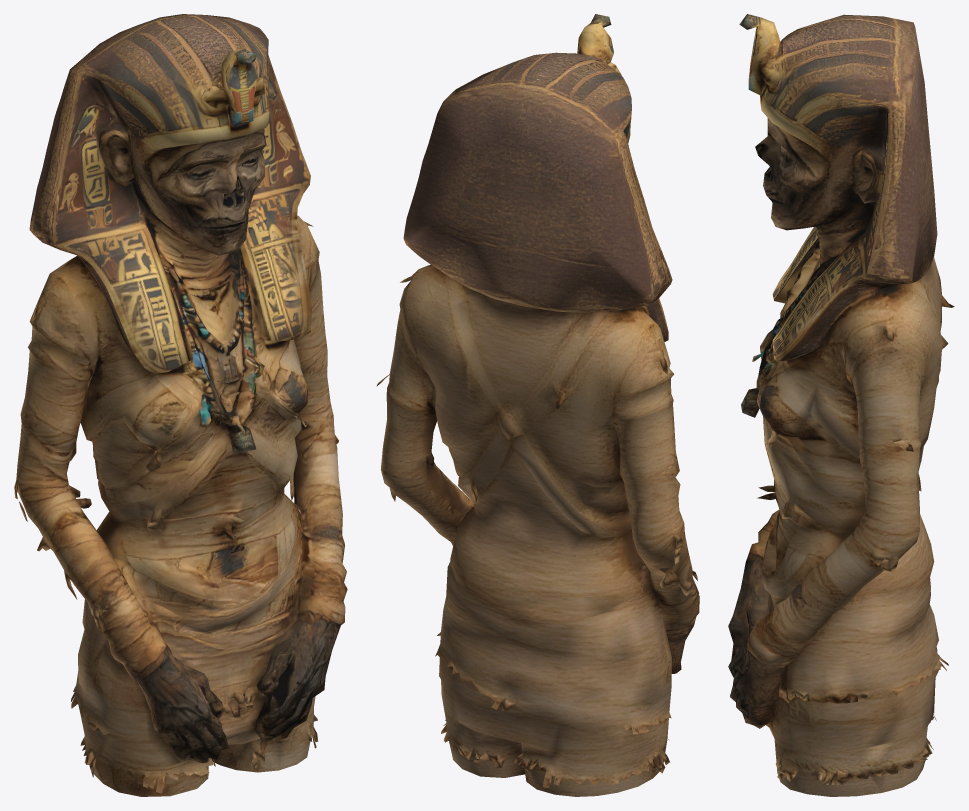
File: 019e0e5c-58ef-7316-bddc-81f6c0f41335.glb
The picture shows the model from 3 angles, left to right: view 1: azimuth 30°, elevation 25°; view 2: azimuth 150°, elevation 25°; view 3: azimuth 270°, elevation 25°; orthographic projection. The views are drawn at different scales.
Visible parts, largest first — view 1: tripo_node_8cf49b19-f6ef-4c05-b5c3-ad7fdaf7b924; view 2: tripo_node_8cf49b19-f6ef-4c05-b5c3-ad7fdaf7b924; view 3: tripo_node_8cf49b19-f6ef-4c05-b5c3-ad7fdaf7b924.
Part boxes in pixels (<box>): tripo_node_8cf49b19-f6ef-4c05-b5c3-ad7fdaf7b924: <box>14,14,347,796</box>; tripo_node_8cf49b19-f6ef-4c05-b5c3-ad7fdaf7b924: <box>376,14,699,796</box>; tripo_node_8cf49b19-f6ef-4c05-b5c3-ad7fdaf7b924: <box>728,14,954,796</box>.
Bounding box in the file's own units: 0.4395 × 0.998 × 0.2793.
Materials: 1 (1 with a texture image).
